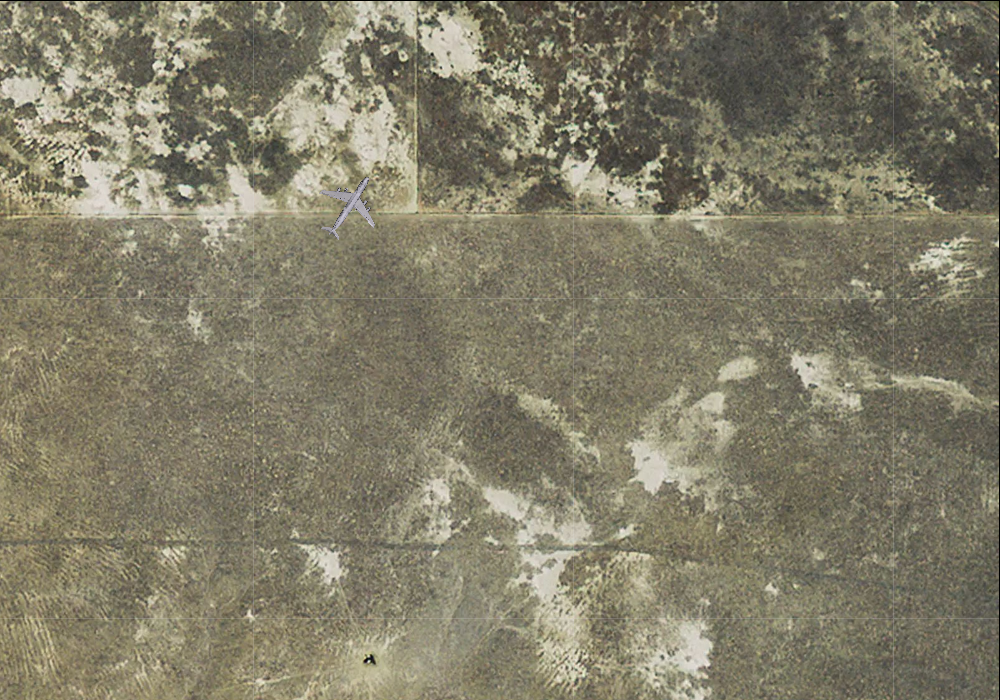plane: (301, 158, 395, 253)
